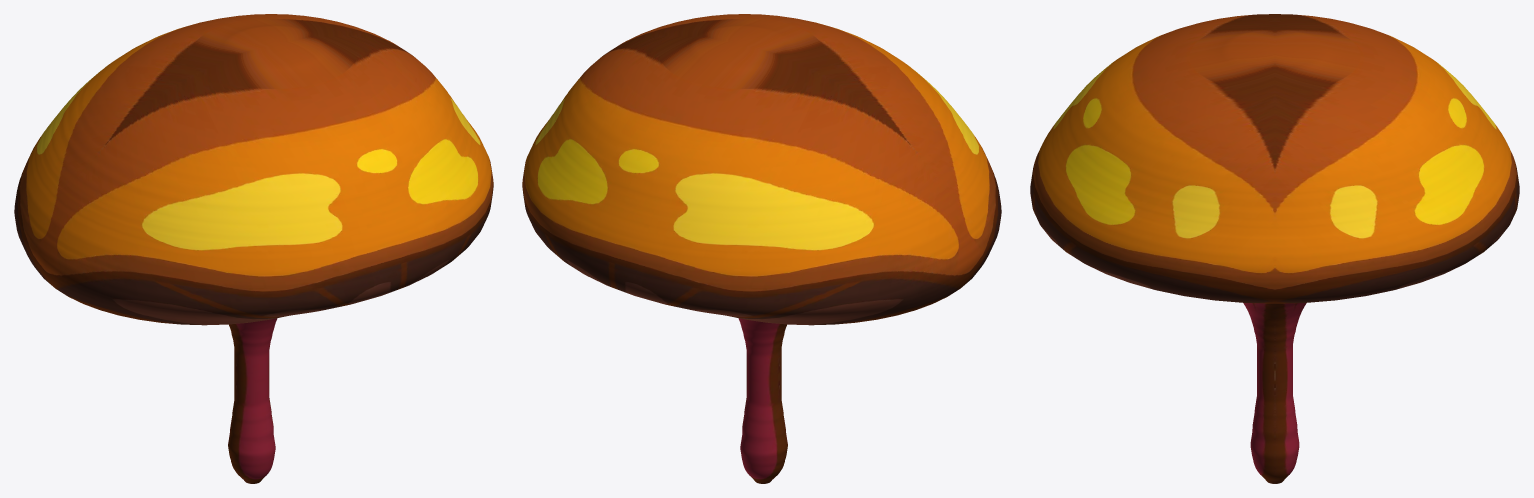
The model's file is orange_canopy_mushroom.glb.
The picture shows the model from 3 angles, left to right: view 1: azimuth 30°, elevation 25°; view 2: azimuth 150°, elevation 25°; view 3: azimuth 270°, elevation 25°; orthographic projection. The views are drawn at different scales.
Parts seen in each view (by area): view 1: orange_canopy_mushroom; view 2: orange_canopy_mushroom; view 3: orange_canopy_mushroom.
Boxes of the visible parts, x1,y1,x2,y2 form: orange_canopy_mushroom: (14, 14, 493, 483); orange_canopy_mushroom: (522, 14, 1001, 483); orange_canopy_mushroom: (1030, 14, 1519, 483).
Bounding box in the file's own units: 1 × 0.9886 × 0.9896.
Materials: 1 (1 with a texture image).
